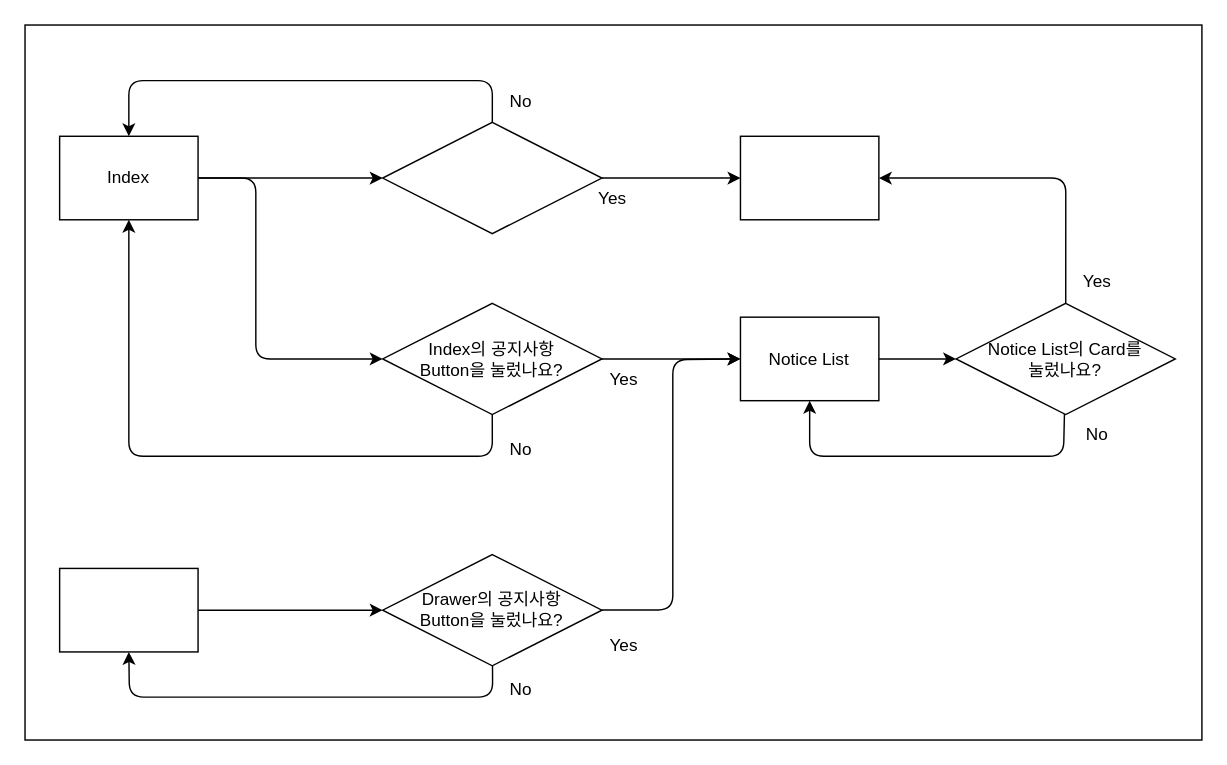
This 1227x765 diagram has some shape labels left out. Each missing label, with the centre of its shape:
Drawer: (128,609)
Index의 NoticeCard의 Button을 눌렀나요?: (491,177)
Notice Detail: (809,177)
